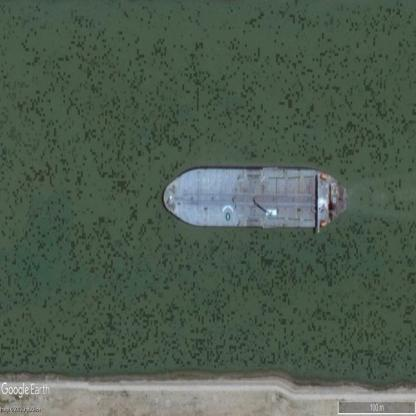ship: (161, 164, 349, 229)
